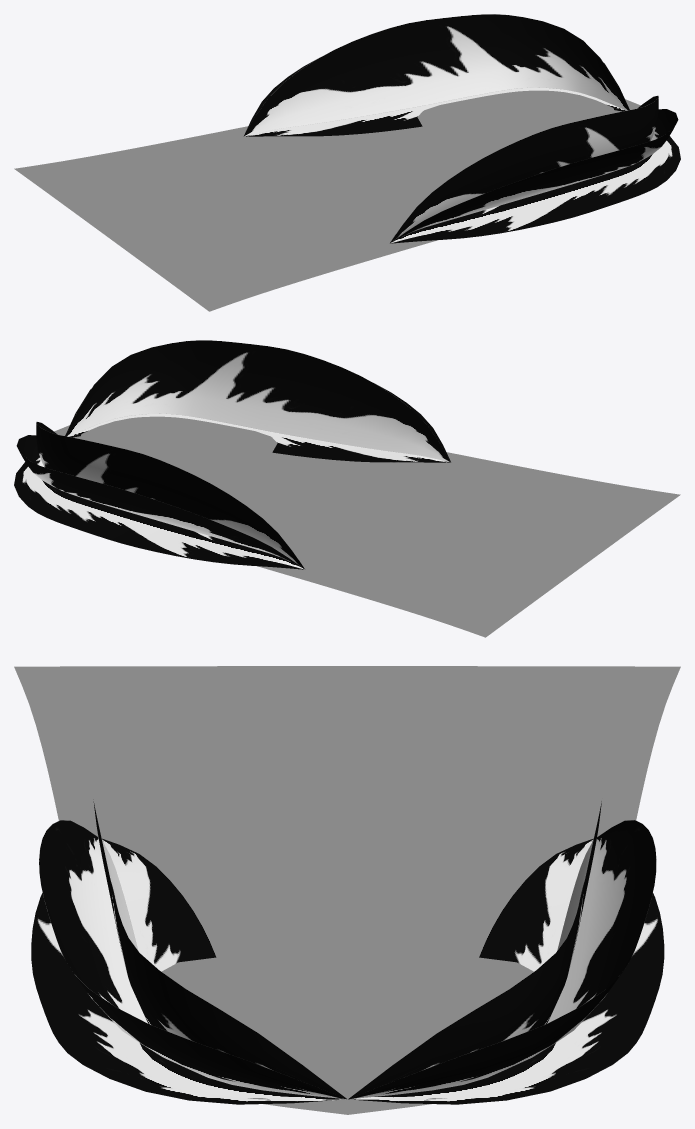
File: Rui_Smoke3.fbx
3 renders of one model, top to bottom at view 1: azimuth 30°, elevation 25°; view 2: azimuth 150°, elevation 25°; view 3: azimuth 270°, elevation 25°, orthographic. The views are drawn at different scales.
Parts seen in each view (by area): view 1: SM_e_Plc_P1007_Smoke003; view 2: SM_e_Plc_P1007_Smoke003; view 3: SM_e_Plc_P1007_Smoke003.
Part boxes in pixels (box(x1,y1,x2,y2)): SM_e_Plc_P1007_Smoke003: box(14, 14, 680, 311); SM_e_Plc_P1007_Smoke003: box(14, 340, 680, 637); SM_e_Plc_P1007_Smoke003: box(14, 666, 680, 1114).
Bounding box in the file's own units: 215 × 28.5 × 135.
